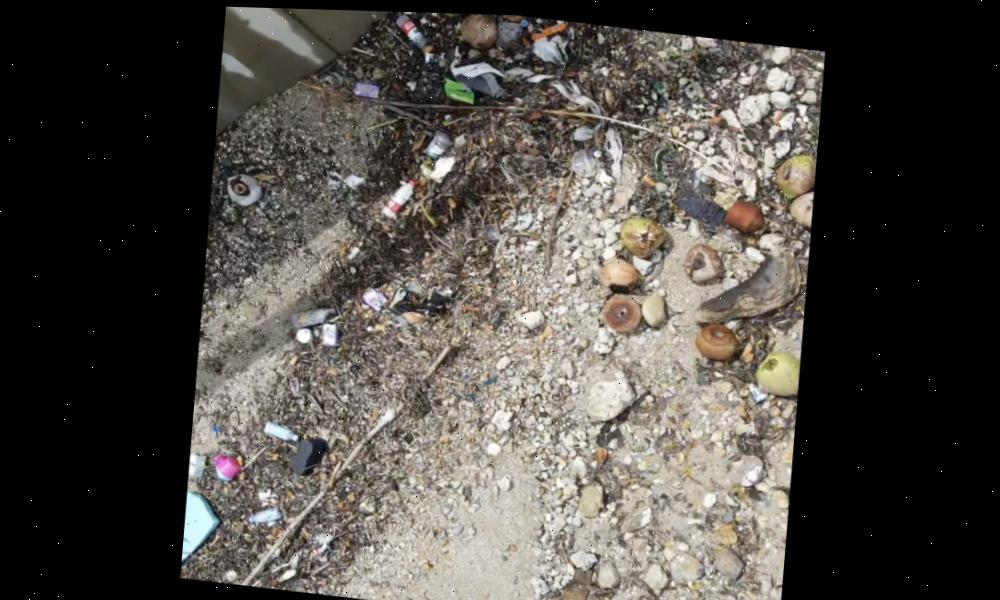plastic bottle: (377, 177, 412, 217), (392, 11, 433, 45), (260, 420, 303, 441), (244, 505, 282, 522)
